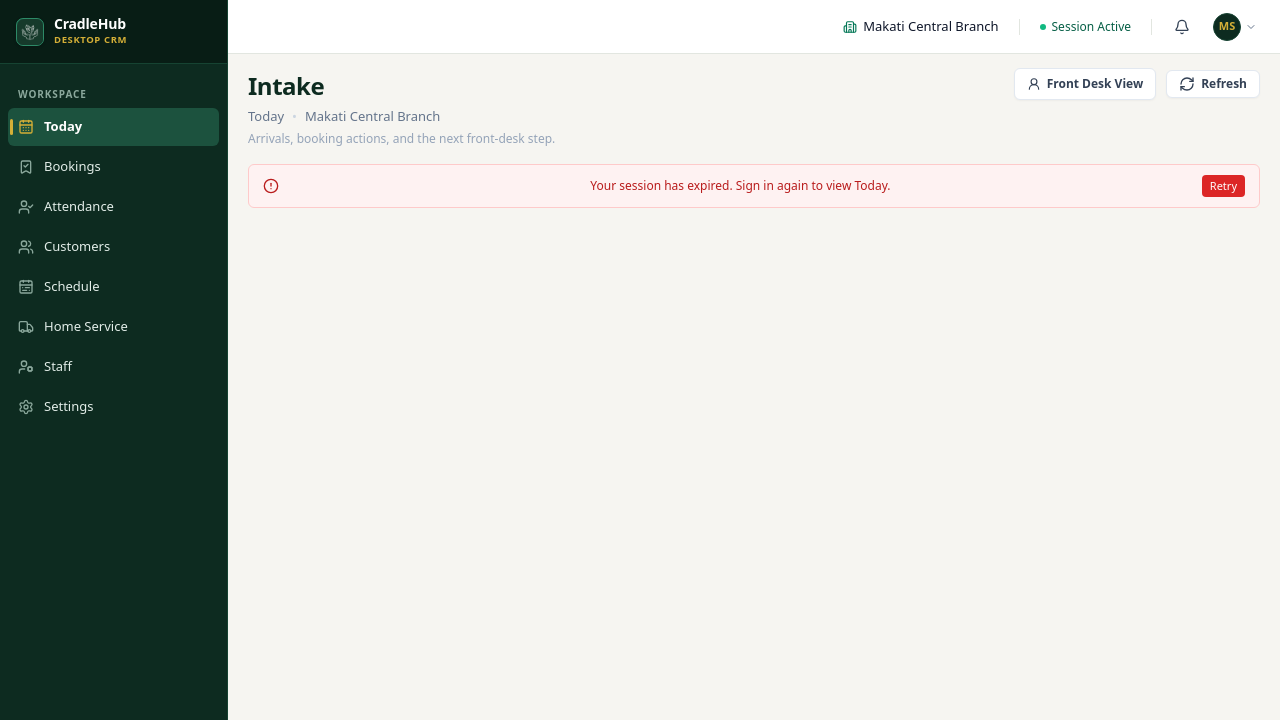
Test: Stage 01 UI Components › CanonicalShell › toggles notification popover with truthful empty state and no stage badges
The width and height of the screenshot is (1280, 720).
// Open notification panel
Click the button with test id "notification-trigger": (1182, 26) [1166,10,1198,42]
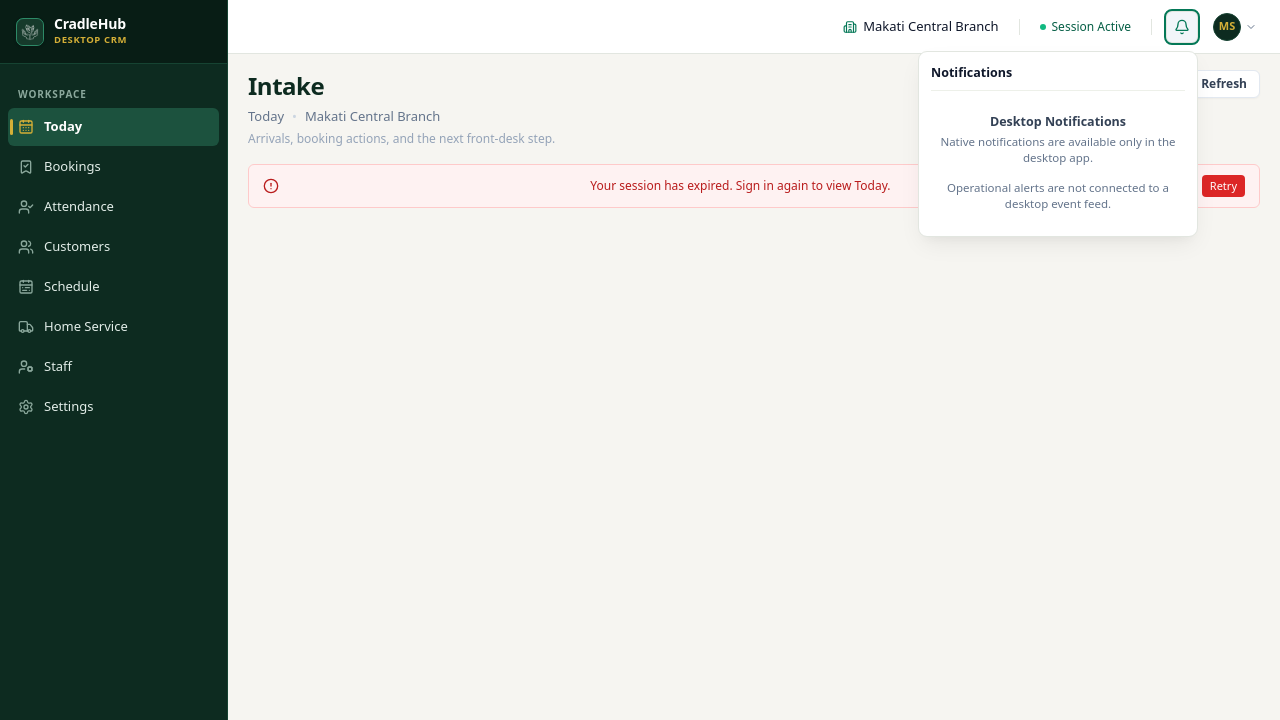
Check: the dialog with test id "notification-panel" is shown, box [918,50,1198,237]
Check: the text "Desktop Notifications" is shown, box [990,113,1126,132]
Check: the text "Native notifications are available only in the desktop app." is shown, box [939,134,1177,166]
// Close notification panel by clicking trigger again
Click the button with test id "notification-trigger": (1182, 26) [1166,10,1198,42]
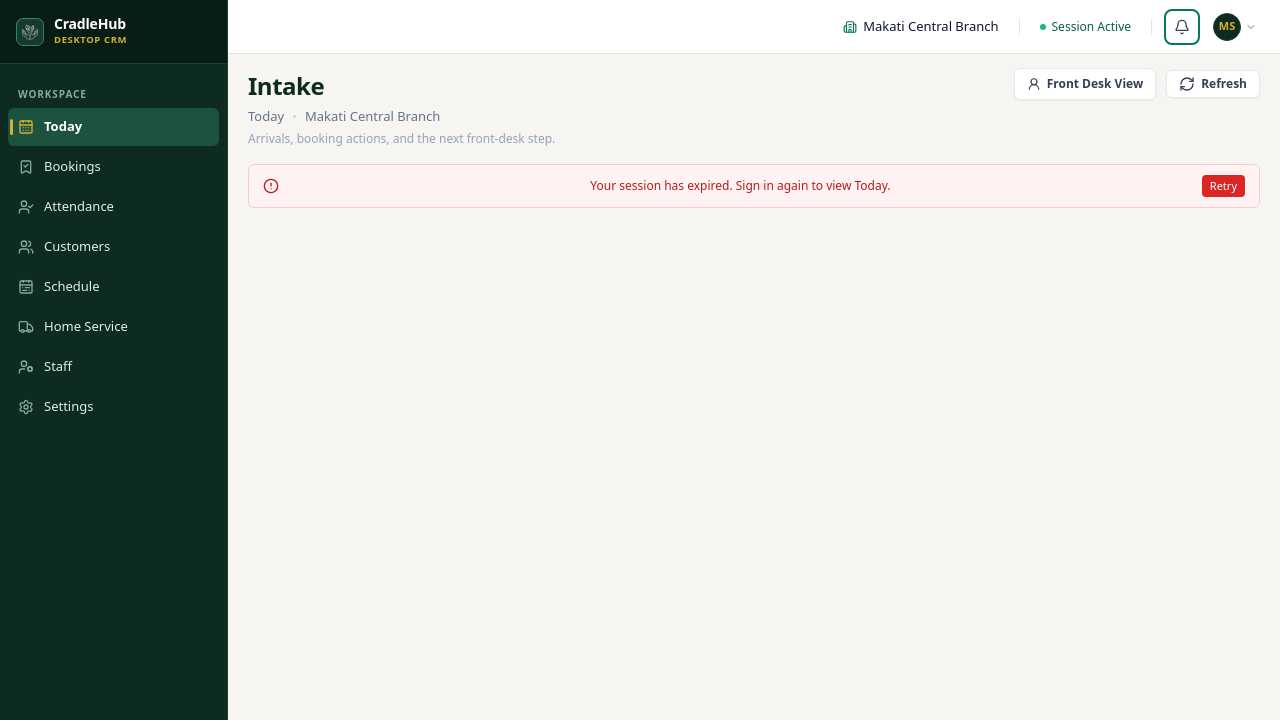
Check: the dialog with test id "notification-panel" is gone
